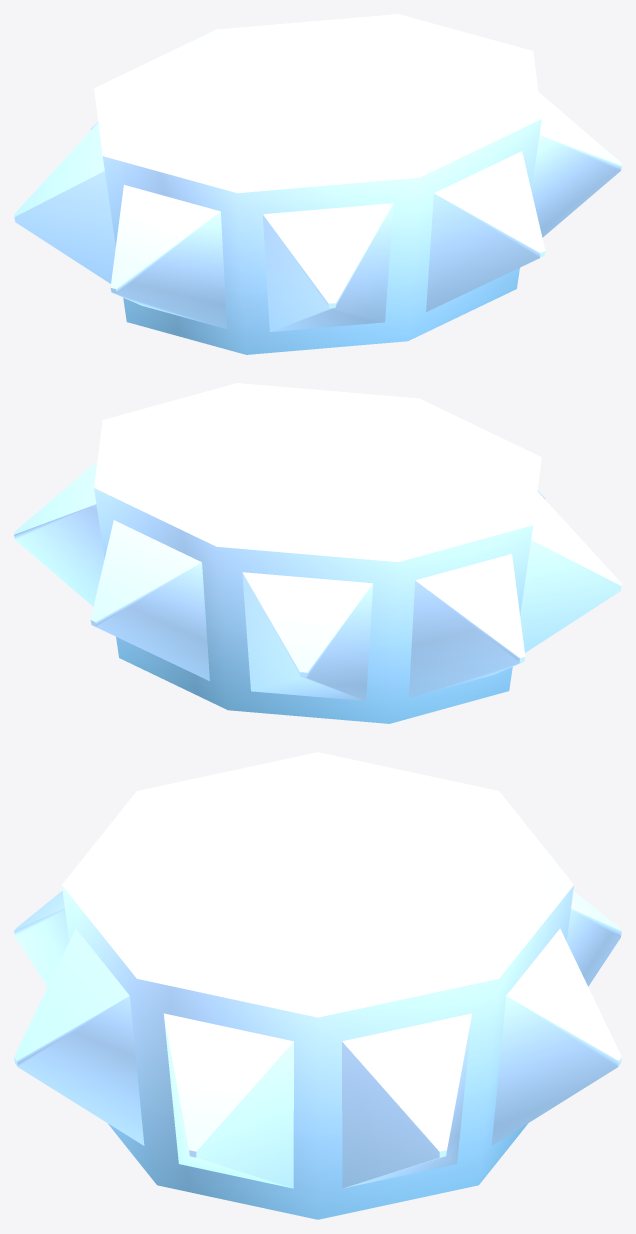
File: steel_guard_043.glb
The picture shows the model from 3 angles, top to bottom: view 1: azimuth 30°, elevation 25°; view 2: azimuth 150°, elevation 25°; view 3: azimuth 270°, elevation 25°; orthographic projection. The views are drawn at different scales.
Visible parts, largest first — view 1: steel_guard_043; view 2: steel_guard_043; view 3: steel_guard_043.
Part boxes in pixels (bbox=[...]): steel_guard_043: bbox=[14, 14, 621, 354]; steel_guard_043: bbox=[14, 383, 621, 723]; steel_guard_043: bbox=[14, 752, 621, 1219].
Size of the model in its own units: 6.23 by 2 by 5.08.
1 material, 1 textured.
